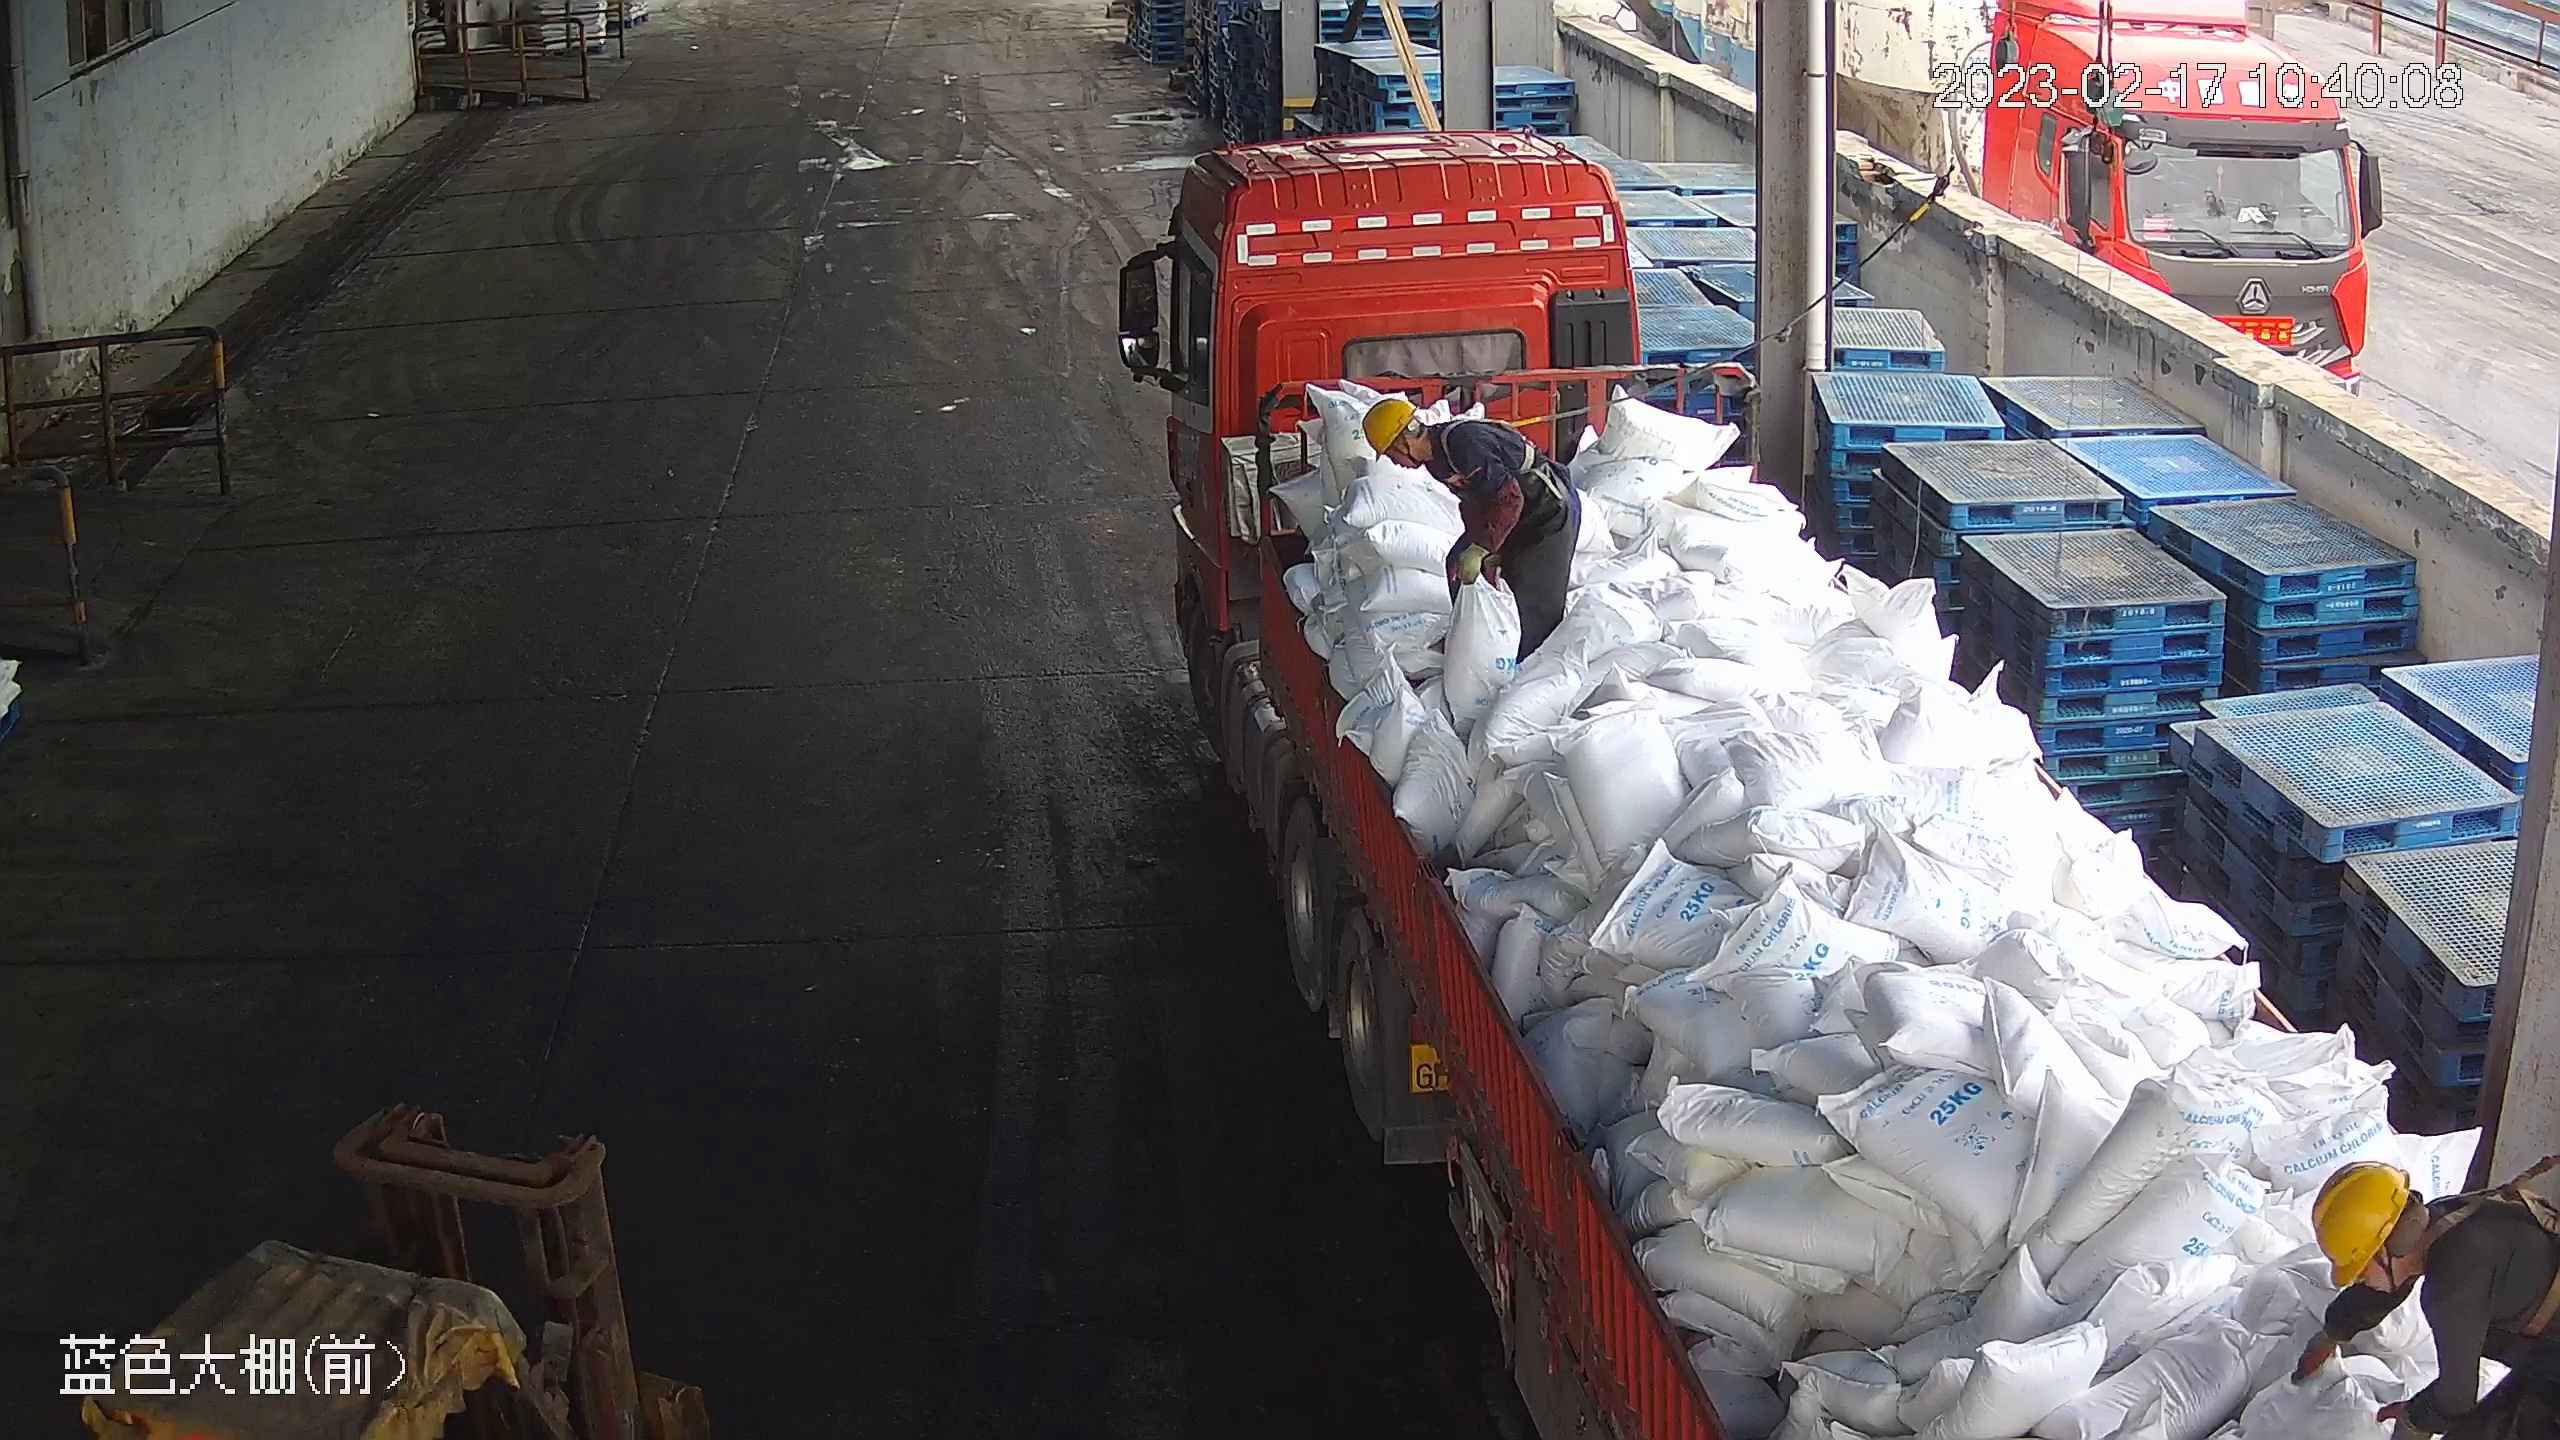belt: (2427, 1163, 2560, 1338), (1435, 400, 1538, 464)
head: (2309, 1159, 2528, 1336), (1360, 389, 1506, 503)
helmet: (2310, 1161, 2411, 1289), (1361, 389, 1413, 454)
people: (2292, 1158, 2559, 1438), (1359, 390, 1585, 661)
truck: (1125, 146, 2557, 1440)
